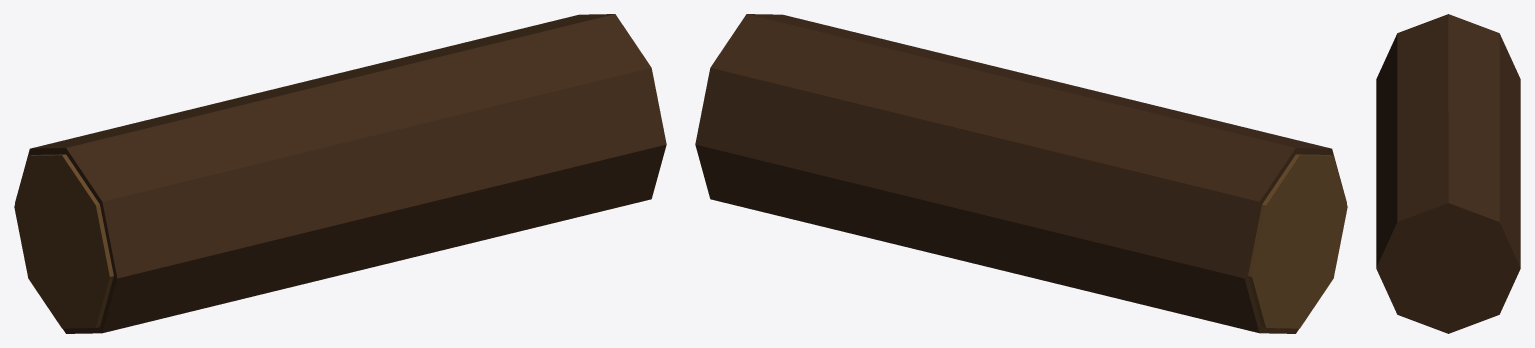
The model's file is SM_ENV_Wood_02_FallenLog.glb.
3 views of the same model, side by side, from view 1: azimuth 30°, elevation 25°; view 2: azimuth 150°, elevation 25°; view 3: azimuth 270°, elevation 25° (orthographic). The views are drawn at different scales.
Visible parts, largest first — view 1: SM_ENV_Wood_02_FallenLog; view 2: SM_ENV_Wood_02_FallenLog; view 3: SM_ENV_Wood_02_FallenLog.
Part boxes in pixels (x1,y1,x2,y2): SM_ENV_Wood_02_FallenLog: (14, 14, 666, 333); SM_ENV_Wood_02_FallenLog: (695, 14, 1347, 333); SM_ENV_Wood_02_FallenLog: (1376, 14, 1520, 333).
Size of the model in its own units: 1.37 by 0.44 by 0.44.
